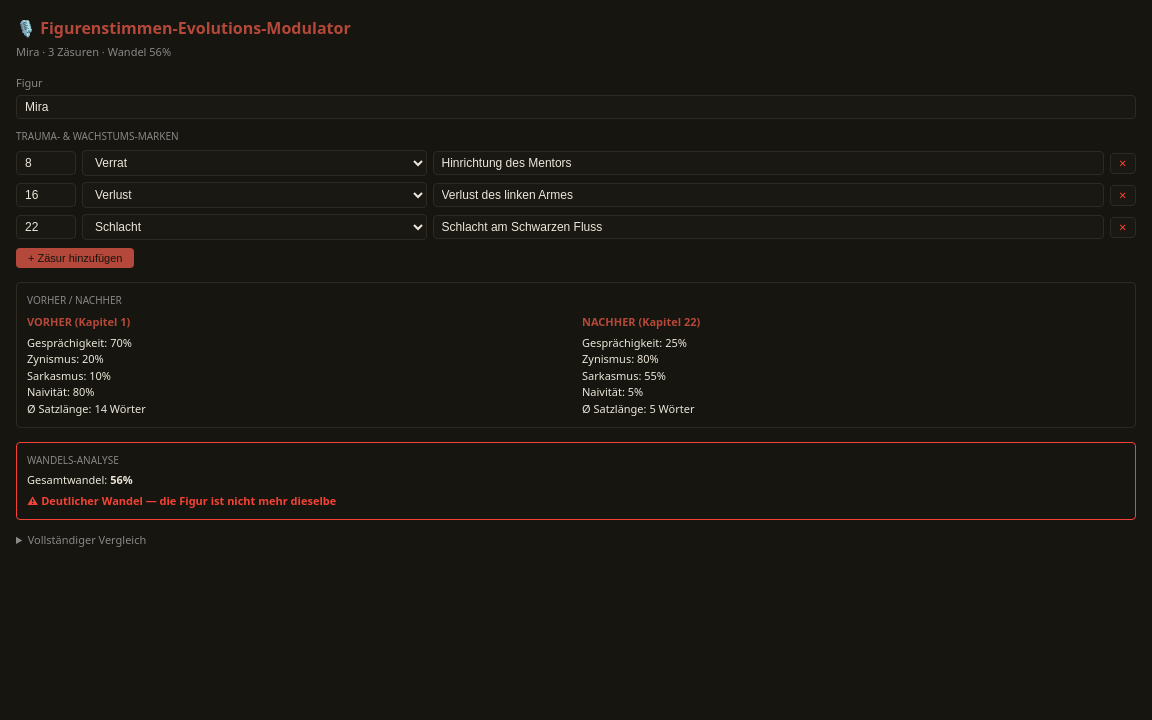
Test case: CharacterVoiceEvolutionModal › fügt eine Zäsur hinzu
Click the button with test id "voice-add-trauma".
click(75, 258)  # box [16,248,134,268]
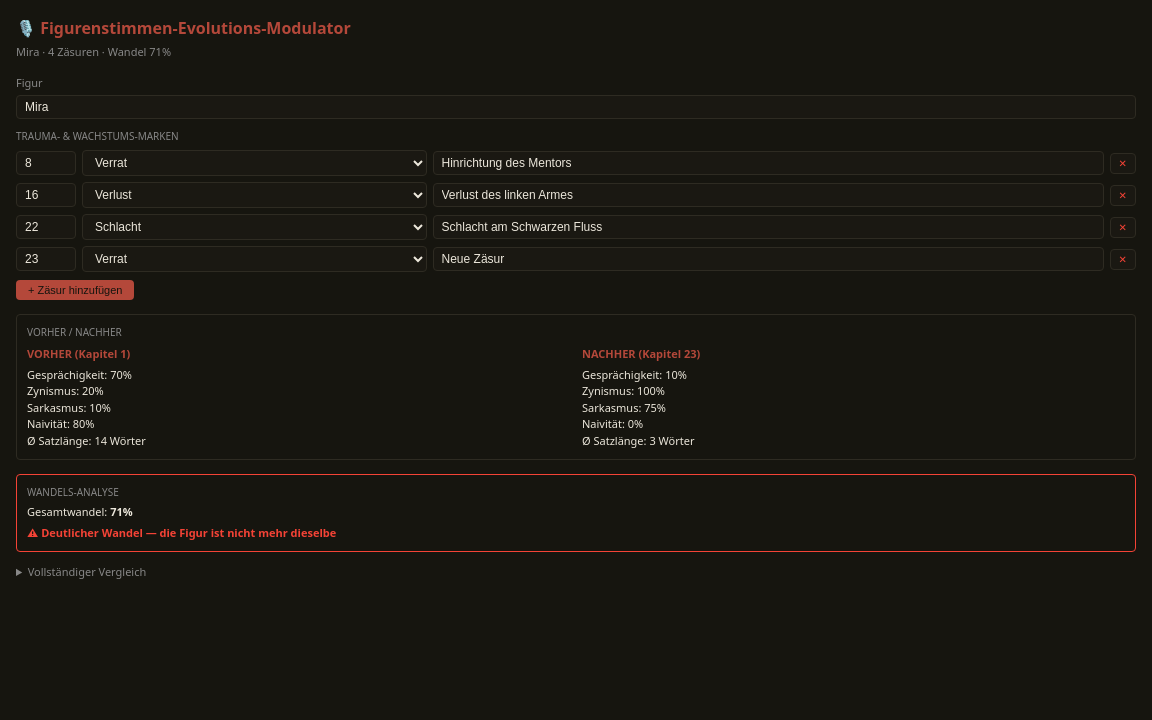
expect the element with test id "voice-trauma-3" is shown: met, box [16,246,1136,272]
